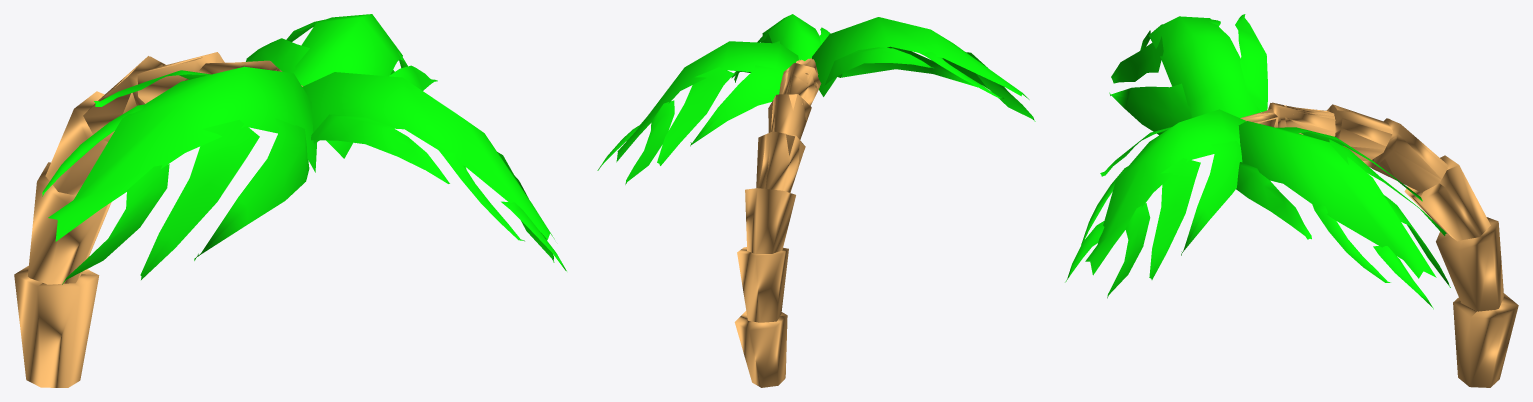
The model's file is palm_treeobj.obj.
3 views of the same model, side by side, from view 1: azimuth 30°, elevation 25°; view 2: azimuth 150°, elevation 25°; view 3: azimuth 270°, elevation 25° (orthographic). The views are drawn at different scales.
Parts seen in each view (by area): view 1: n.0330, n.0339, r.0243, n.0326, n.0312, r.0248, n.0329, n.0338, n.0332, r.0249, r.0251, r.0253 (+6 smaller); view 2: n.0330, n.0312, r.0248, r.0243, r.0249, n.0321, n.0322, r.0251, n.0339, n.0331, r.0253, n.0329 (+6 smaller); view 3: n.0312, n.0330, n.0339, r.0243, r.0248, r.0249, n.0333, n.0329, n.0334, r.0252, n.0316, n.0331 (+13 smaller).
Boxes of the visible parts, x1,y1,x2,y2 form: n.0330: [48, 66, 317, 241]; n.0339: [302, 72, 554, 239]; r.0243: [14, 265, 99, 387]; n.0326: [140, 119, 259, 279]; n.0312: [291, 14, 402, 158]; r.0248: [28, 162, 111, 284]; n.0329: [194, 118, 309, 260]; n.0338: [311, 114, 449, 183]; n.0332: [62, 164, 169, 284]; r.0249: [45, 91, 107, 195]; r.0251: [83, 56, 165, 141]; r.0253: [137, 52, 224, 103]; n.0330: [812, 17, 1029, 99]; n.0312: [616, 41, 798, 162]; r.0248: [737, 247, 788, 322]; r.0243: [734, 310, 787, 387]; r.0249: [745, 188, 795, 253]; n.0321: [690, 65, 785, 146]; n.0322: [657, 67, 734, 165]; r.0251: [758, 131, 805, 192]; n.0339: [762, 14, 820, 60]; n.0331: [824, 47, 933, 85]; r.0253: [768, 94, 811, 139]; n.0329: [842, 46, 977, 87]; n.0312: [1238, 121, 1436, 278]; n.0330: [1148, 16, 1260, 117]; n.0339: [1085, 109, 1245, 275]; r.0243: [1453, 293, 1518, 387]; r.0248: [1436, 217, 1503, 311]; r.0249: [1404, 155, 1490, 241]; n.0333: [1149, 158, 1200, 279]; n.0329: [1109, 83, 1191, 135]; n.0334: [1181, 141, 1242, 255]; r.0252: [1363, 118, 1447, 192]; n.0316: [1236, 162, 1311, 239]; n.0331: [1235, 14, 1267, 111].
Bounding box in the file's own units: 20.01 × 16.67 × 19.78.
